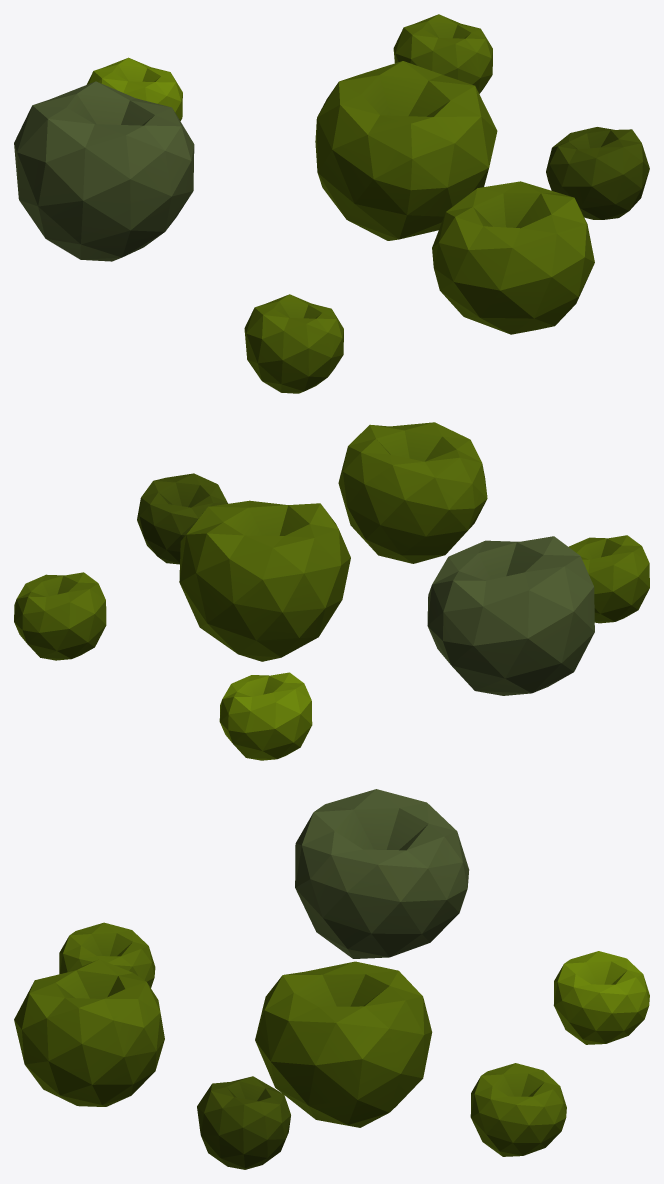
The model's file is swamp_lily_b.glb.
3 views of the same model, one above another, from view 1: azimuth 30°, elevation 25°; view 2: azimuth 150°, elevation 25°; view 3: azimuth 270°, elevation 25° (orthographic). The views are drawn at different scales.
Bounding box in the file's own units: 0.868 × 0.2895 × 0.9322.
